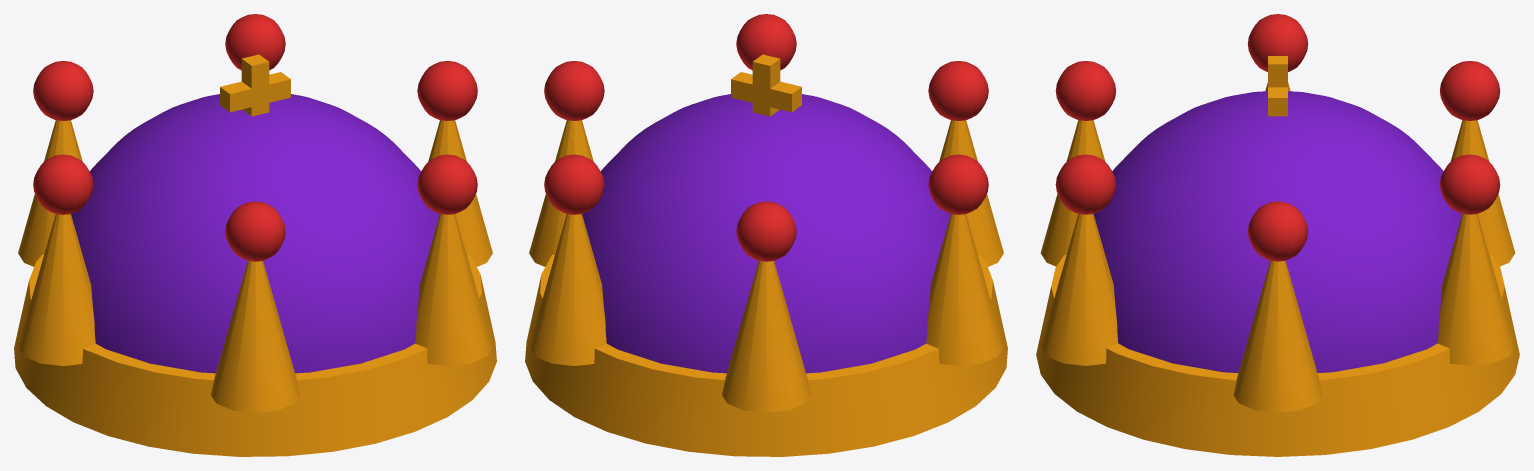
Rendered from royal_crown.glb.
3 views of the same model, side by side, from view 1: azimuth 30°, elevation 25°; view 2: azimuth 150°, elevation 25°; view 3: azimuth 270°, elevation 25° (orthographic).
Visible parts, largest first — view 1: RoyalCrown; view 2: RoyalCrown; view 3: RoyalCrown.
Boxes of the visible parts, bbox=[...] form: RoyalCrown: bbox=[14, 14, 496, 456]; RoyalCrown: bbox=[525, 14, 1007, 456]; RoyalCrown: bbox=[1036, 14, 1519, 456].
Bounding box in the file's own units: 1.06 × 0.645 × 0.96.
